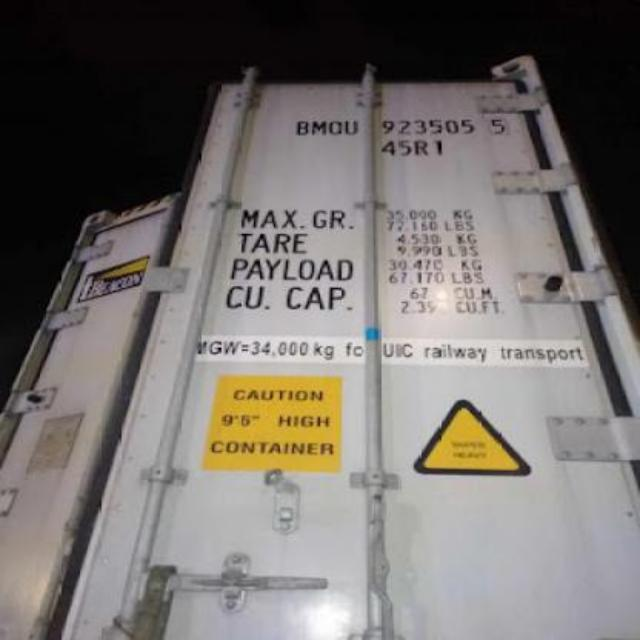0: (444, 112, 458, 138)
2: (396, 112, 412, 136)
3: (412, 112, 428, 138)
5: (486, 114, 516, 136), (428, 114, 444, 136), (461, 112, 474, 136)
9: (378, 114, 394, 136)
B: (296, 115, 308, 139)
M: (306, 113, 328, 143)
O: (330, 114, 342, 146)
U: (344, 114, 360, 144)
